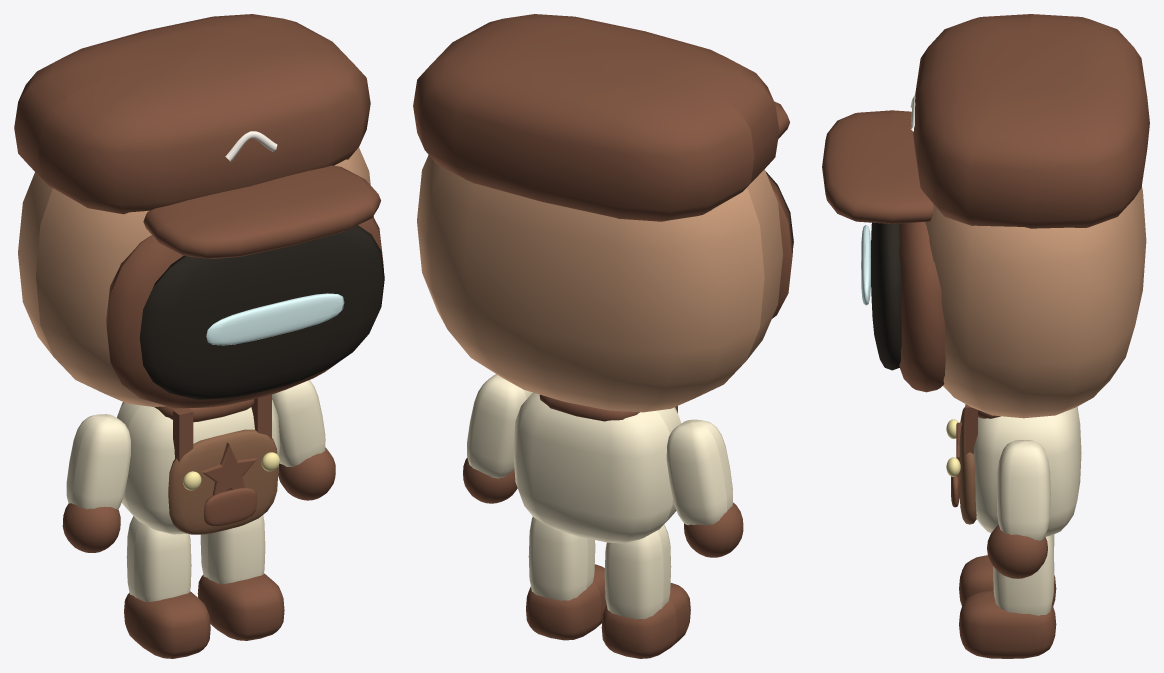
The picture shows the model from 3 angles, left to right: view 1: azimuth 30°, elevation 25°; view 2: azimuth 150°, elevation 25°; view 3: azimuth 270°, elevation 25°; orthographic projection. The views are drawn at different scales.
Parts seen in each view (by area): view 1: 로스팅; view 2: 로스팅; view 3: 로스팅.
Part boxes in pixels (left/top/right/bottom): 로스팅: left=14, top=14, right=384, bottom=658; 로스팅: left=413, top=14, right=793, bottom=658; 로스팅: left=822, top=14, right=1149, bottom=658.
Bounding box in the file's own units: 1.06 × 1.83 × 0.9464.
